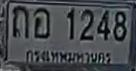1: (66, 8, 74, 38)
2: (79, 8, 94, 39)
4: (96, 9, 110, 41)
8: (113, 10, 127, 41)
A43: (33, 7, 50, 39)
BKK: (22, 47, 112, 65)
